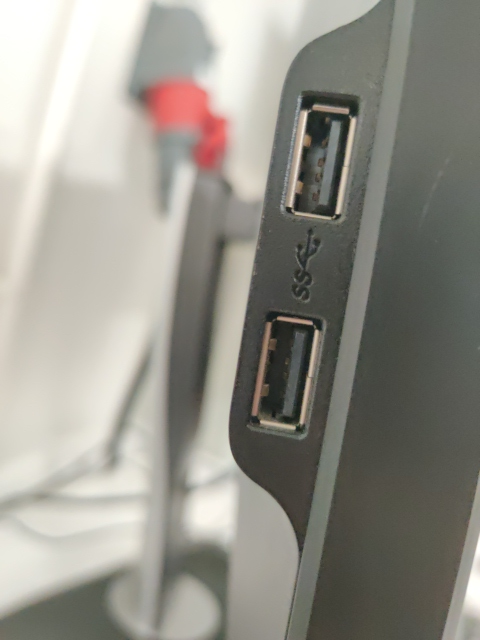USB: (285, 89, 360, 223), (249, 311, 326, 436)
